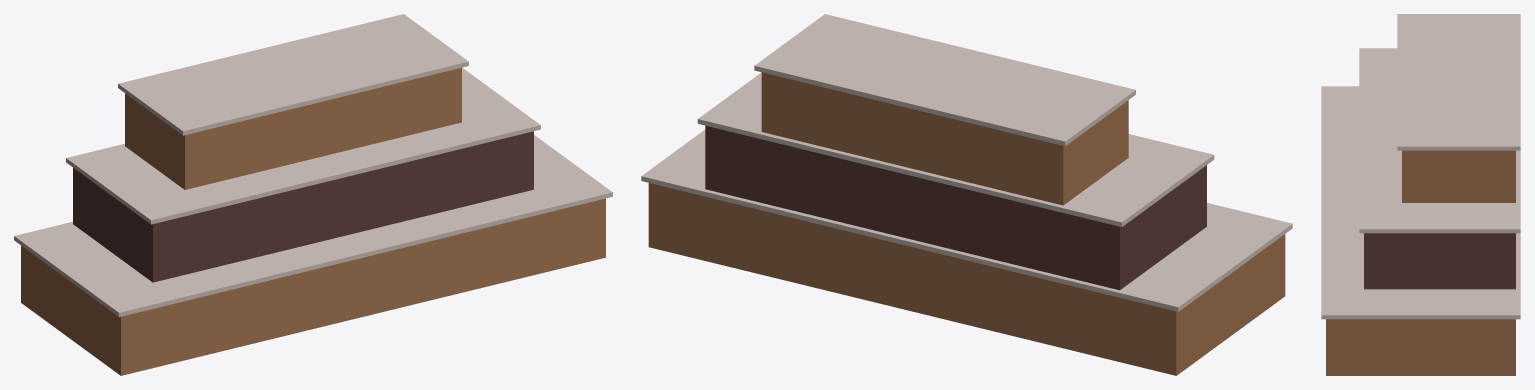
Rendered from Candyland_CandyCliffBackdrop_Simple.glb.
The picture shows the model from 3 angles, left to right: view 1: azimuth 30°, elevation 25°; view 2: azimuth 150°, elevation 25°; view 3: azimuth 270°, elevation 25°; orthographic projection. The views are drawn at different scales.
Visible parts, largest first — view 1: Candyland_CandyCliffBackdrop_Simple; view 2: Candyland_CandyCliffBackdrop_Simple; view 3: Candyland_CandyCliffBackdrop_Simple.
Boxes of the visible parts, bbox=[...] form: Candyland_CandyCliffBackdrop_Simple: bbox=[14, 14, 612, 375]; Candyland_CandyCliffBackdrop_Simple: bbox=[641, 14, 1292, 375]; Candyland_CandyCliffBackdrop_Simple: bbox=[1321, 14, 1520, 375].
Bounding box in the file's own units: 14.25 × 5.32 × 5.25.
